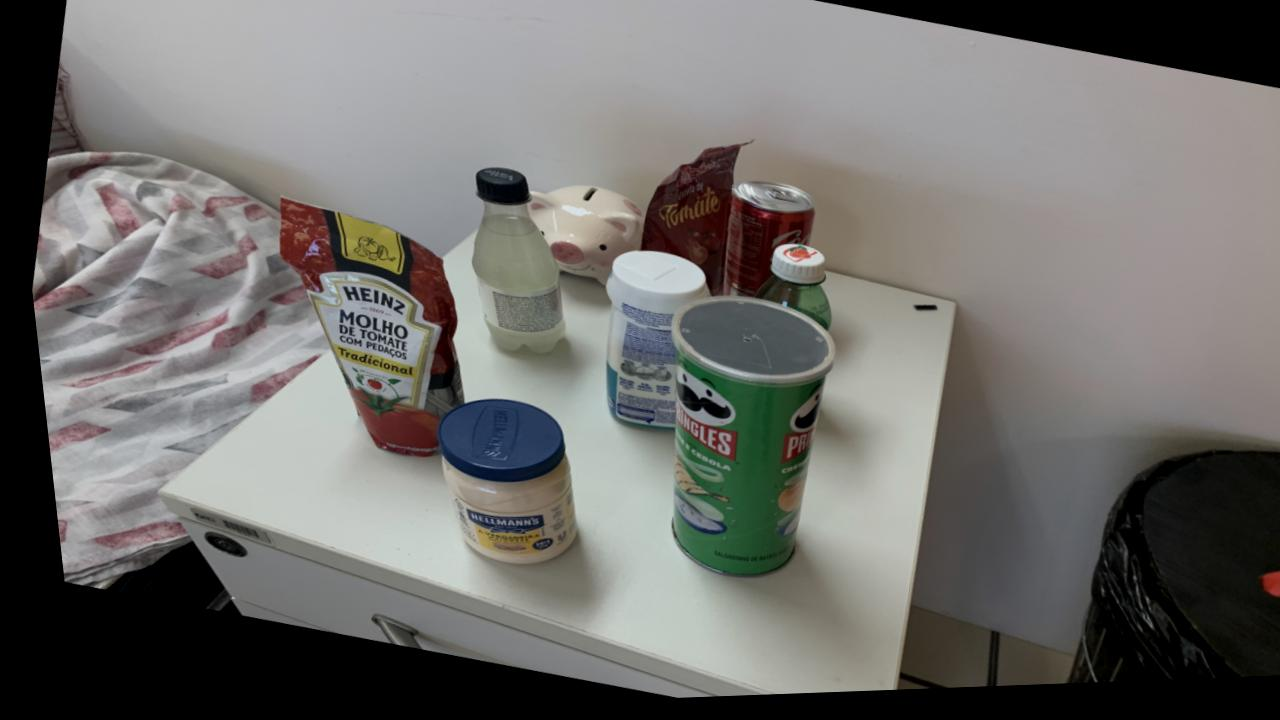Cleaner-Cleanup_Items: (595, 255, 701, 435)
Coke-Drinks: (713, 186, 809, 302)
Guarana-Drinks: (746, 249, 823, 334)
Mayonnaise-Pantry_Items: (426, 401, 563, 568)
Pig_Safe-Miscellaneous: (523, 188, 638, 288)
Pringles-Snacks: (658, 301, 826, 581)
Soda-Drinks: (465, 170, 556, 357)
Tomato_Sauce-Pantry_Items: (273, 200, 454, 459), (633, 149, 737, 299)
